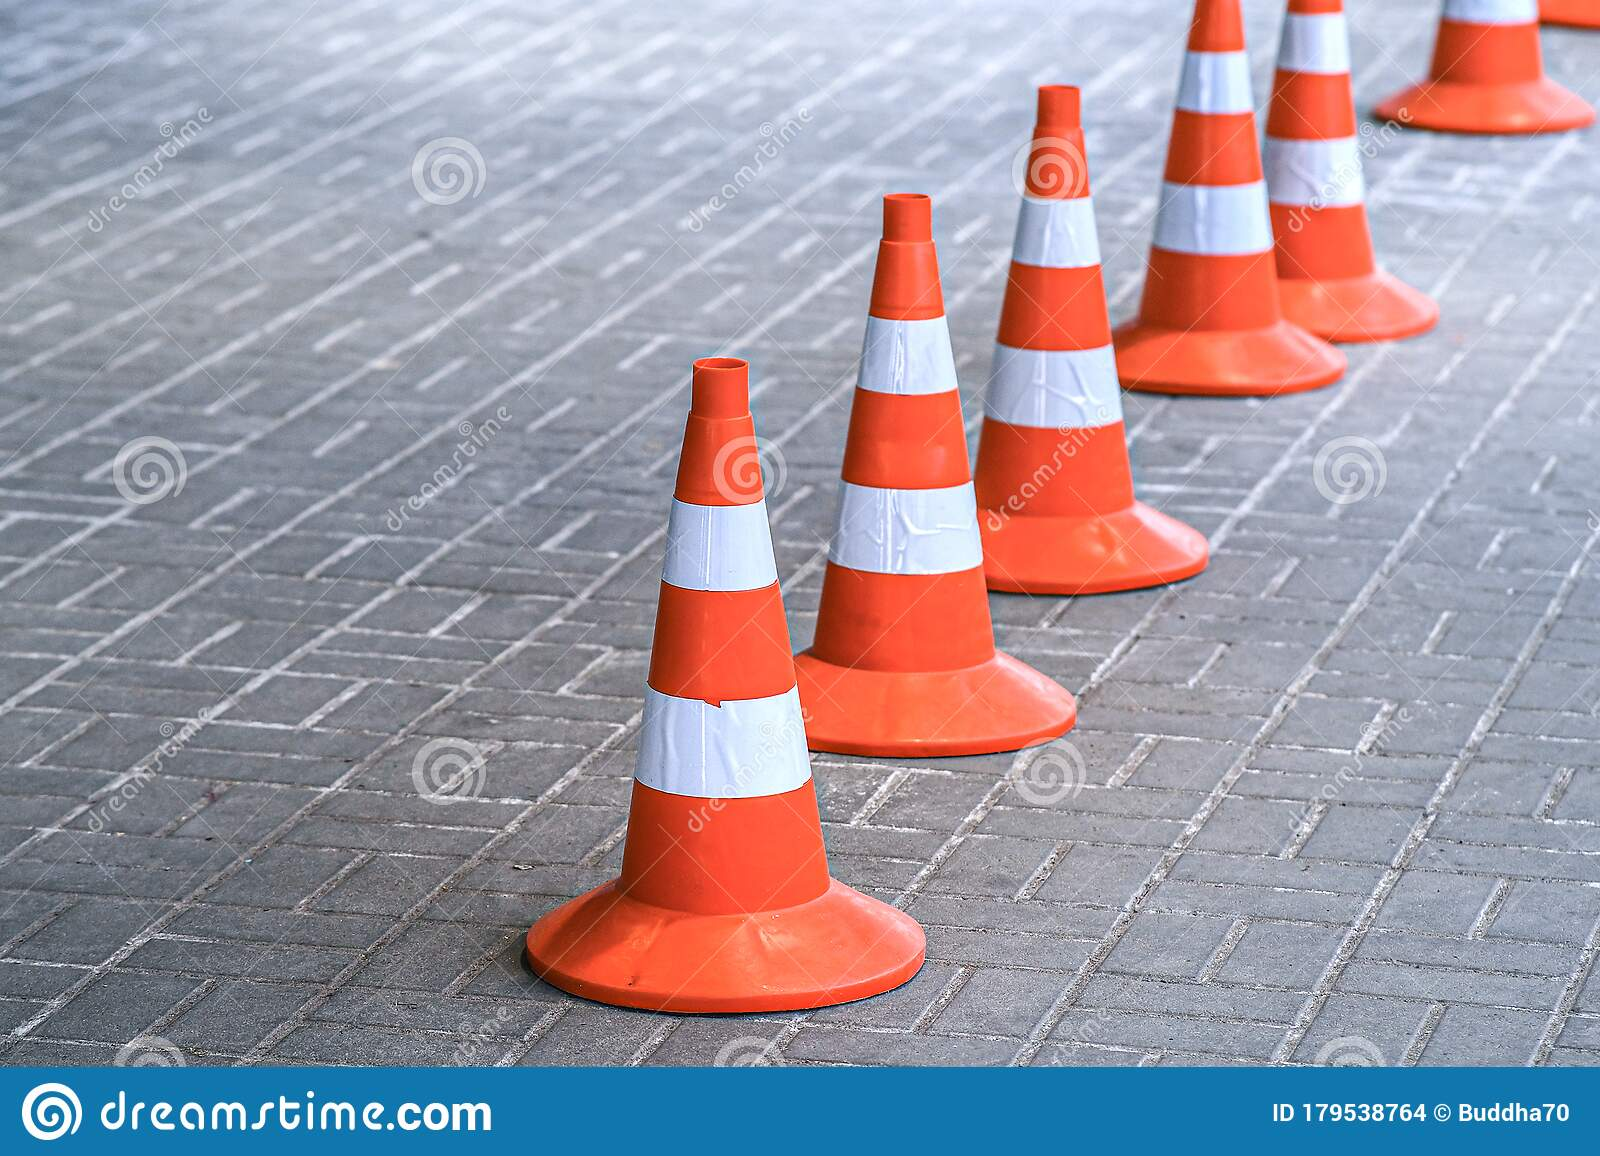cones: (549, 348, 922, 1009), (789, 189, 1071, 752), (973, 78, 1210, 596)
